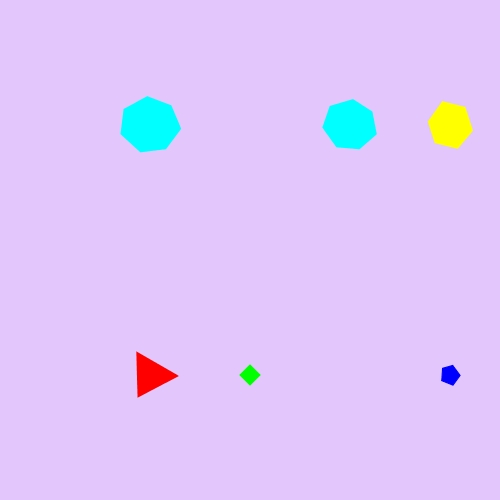heptagon: (117, 94, 183, 157), (320, 96, 380, 154)
hexagon: (422, 102, 479, 149)
pentagon: (436, 361, 465, 390)
quadrilateral: (235, 360, 265, 390)
triangle: (126, 350, 175, 401)
